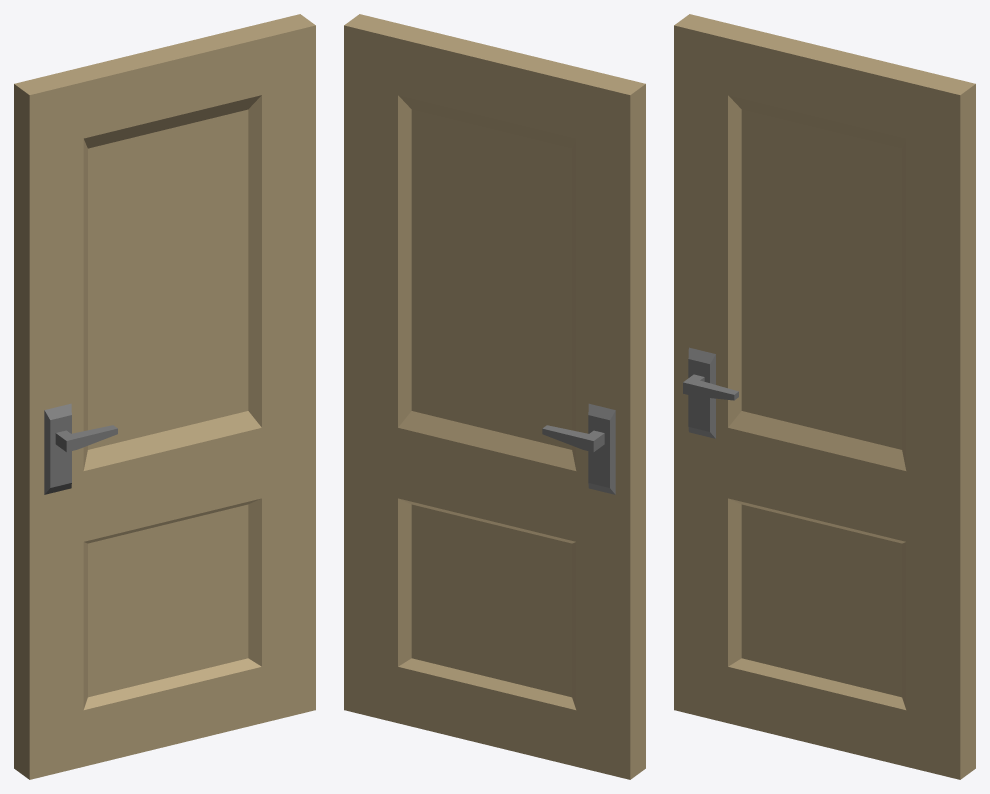
File: Door_Basement.fbx
The picture shows the model from 3 angles, left to right: view 1: azimuth 30°, elevation 25°; view 2: azimuth 150°, elevation 25°; view 3: azimuth 330°, elevation 25°; orthographic projection.
Parts seen in each view (by area): view 1: door; view 2: door; view 3: door.
Boxes of the visible parts, x1=… form: door: x1=14, y1=14, x2=315, y2=779; door: x1=344, y1=14, x2=645, y2=779; door: x1=674, y1=14, x2=975, y2=779.
Size of the model in its own units: 4.29 by 9.81 by 1.13.
